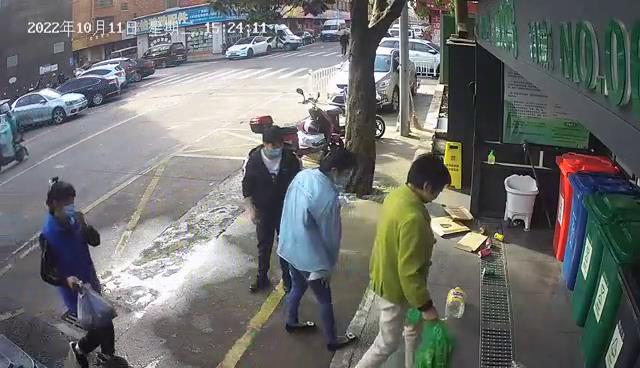garbage-bag: (407, 306, 455, 368), (75, 281, 118, 331)
lvzhipin: (482, 266, 496, 277), (493, 231, 505, 242), (478, 248, 492, 257), (484, 237, 493, 250)
person: (353, 153, 441, 368), (239, 125, 302, 293)
suliaozhipin: (444, 285, 467, 320)
worker: (37, 175, 129, 368), (275, 147, 359, 353)
zhizhipin: (430, 215, 471, 236), (453, 231, 489, 253), (443, 204, 474, 220)
